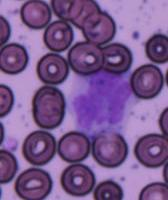M: (70, 69, 136, 137)
